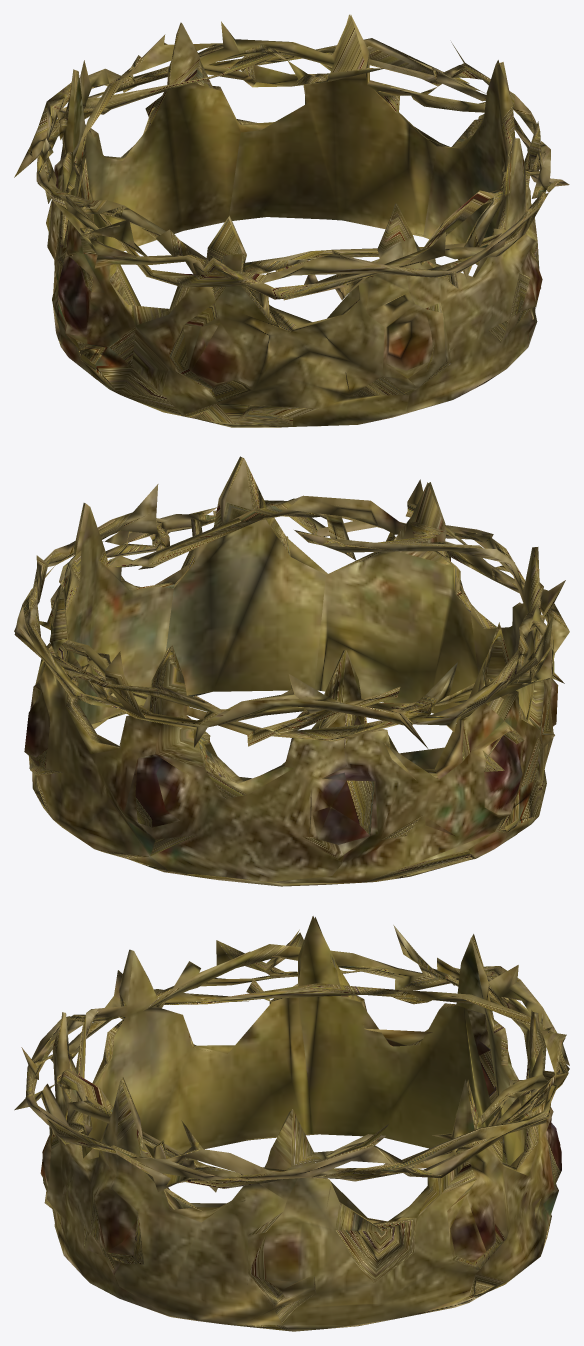
The model's file is crown-lite.glb.
3 renders of one model, top to bottom at view 1: azimuth 30°, elevation 25°; view 2: azimuth 150°, elevation 25°; view 3: azimuth 270°, elevation 25°, orthographic. The views are drawn at different scales.
Parts seen in each view (by area): view 1: geometry_0; view 2: geometry_0; view 3: geometry_0.
Part boxes in pixels (x1,y1,x2,y2): geometry_0: (14, 14, 569, 427); geometry_0: (14, 456, 569, 886); geometry_0: (14, 916, 569, 1331).
Size of the model in its own units: 0.8332 by 0.4095 by 0.8625.
1 material, 1 textured.
